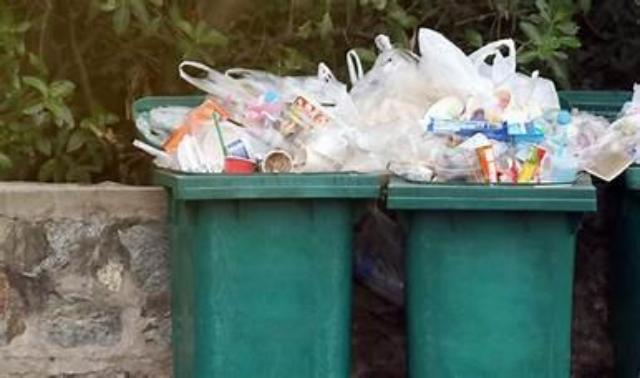Garbage: (130, 23, 640, 188)
Plastic_Bag: (127, 25, 640, 185)
